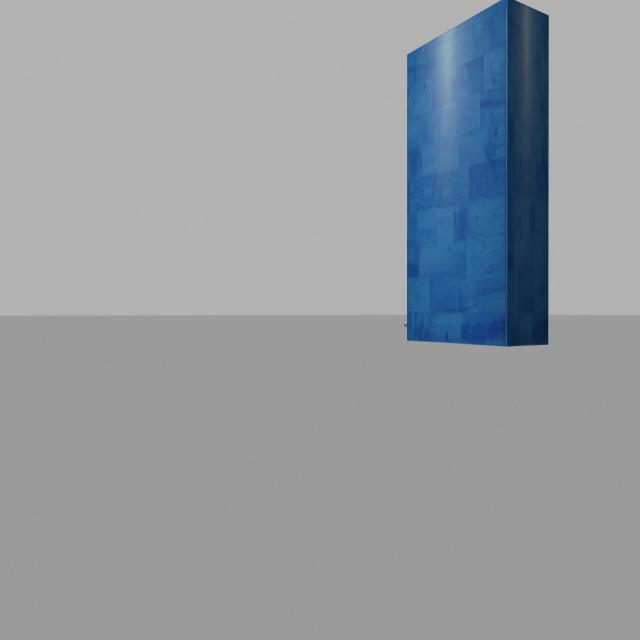bowl: (392, 318, 418, 334)
shelf: (396, 0, 577, 375)
